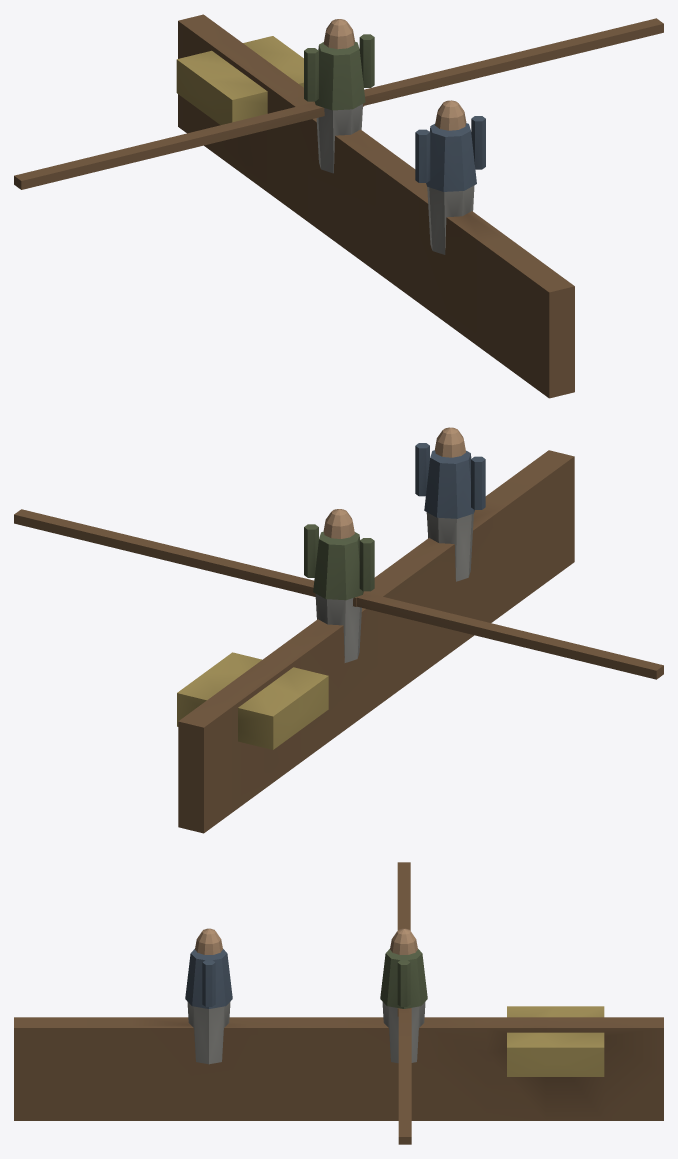
The model's file is skiff.glb.
The picture shows the model from 3 angles, top to bottom: view 1: azimuth 30°, elevation 25°; view 2: azimuth 150°, elevation 25°; view 3: azimuth 270°, elevation 25°; orthographic projection. The views are drawn at different scales.
Visible parts, largest first — view 1: base; view 2: base; view 3: base.
Boxes of the visible parts, box(x1,y1,x2,y2) form: base: box(14, 14, 663, 398); base: box(14, 427, 663, 833); base: box(14, 862, 663, 1144).
Size of the model in its own units: 6 by 1.9 by 6.
